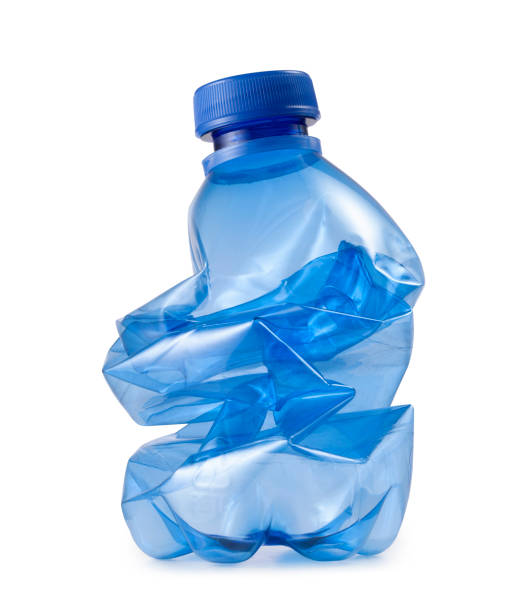plastic_bottle: (100, 71, 425, 564)
